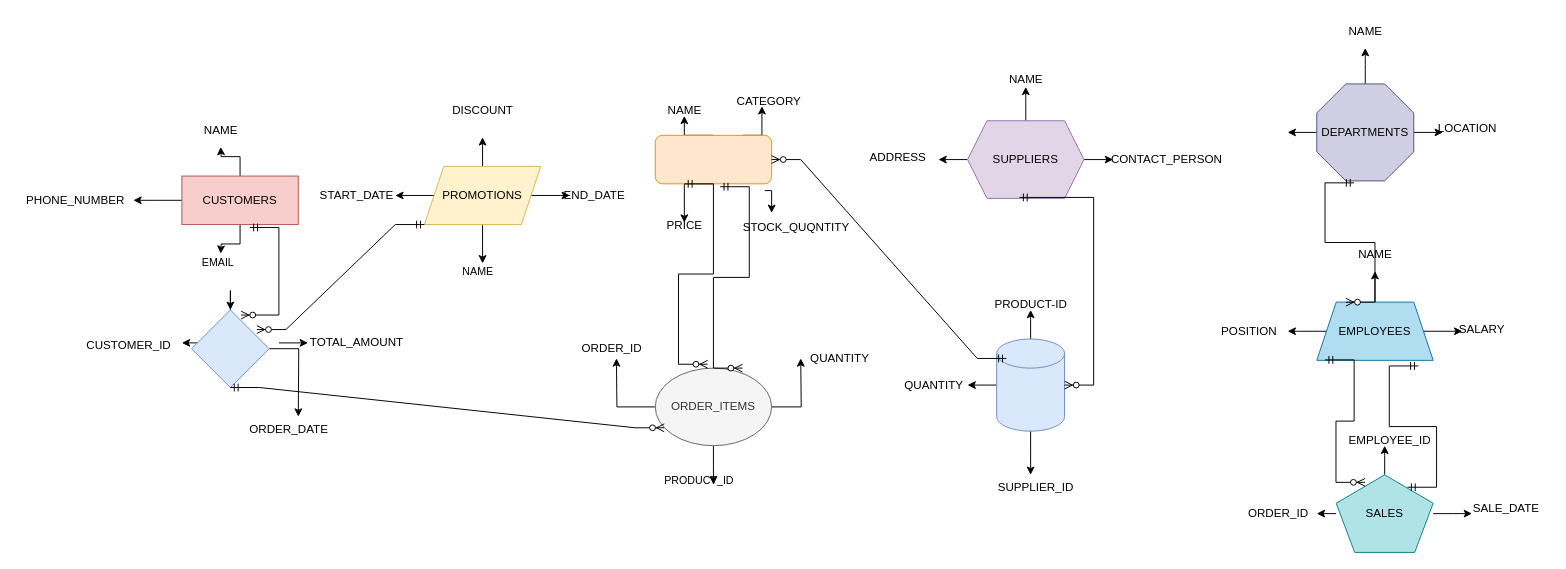
Image size: 1566x569. Some labels were removed from this diagram. The shapes that lost their labels are listed below. From the top down, each one's centre as x and y in pixels, then its label:
(x=713, y=159): PRODUCTS
(x=230, y=348): ORDERS
(x=1030, y=384): INVENTORY
